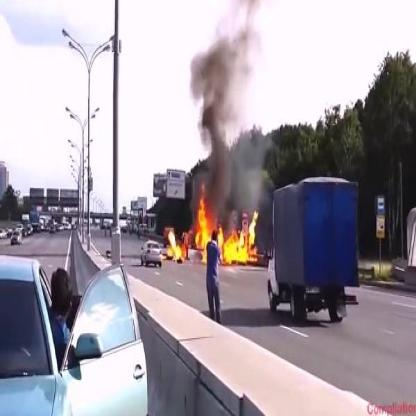fire: (193, 182, 257, 267), (164, 225, 182, 260)
